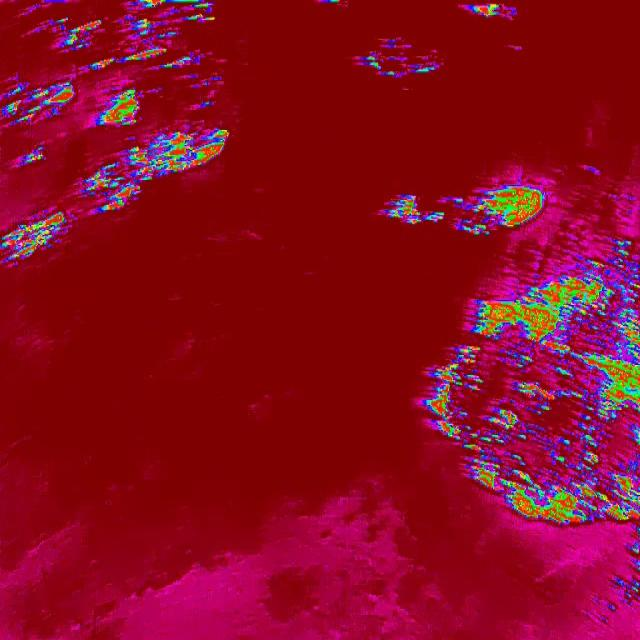fire: (0, 0, 228, 181), (472, 298, 640, 524), (387, 172, 549, 233), (518, 240, 640, 298), (348, 32, 452, 86), (426, 342, 472, 457), (0, 179, 145, 215), (0, 214, 72, 266), (611, 523, 640, 606), (457, 0, 524, 21)
